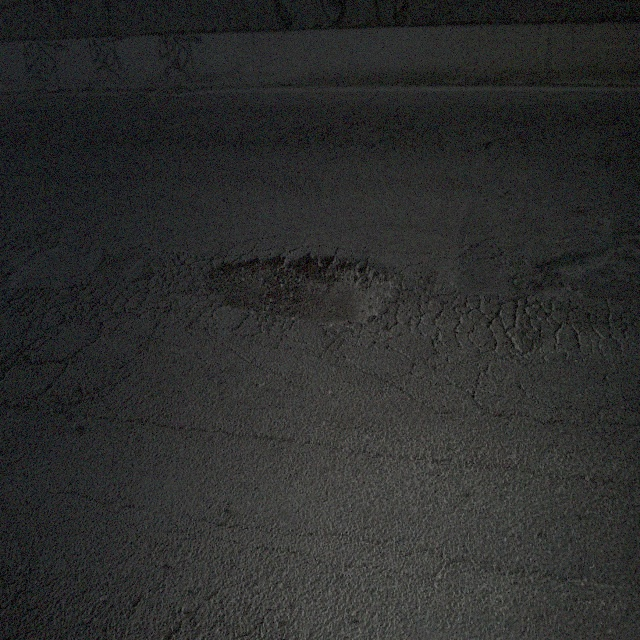pothole: (206, 242, 384, 336), (483, 127, 533, 157)
